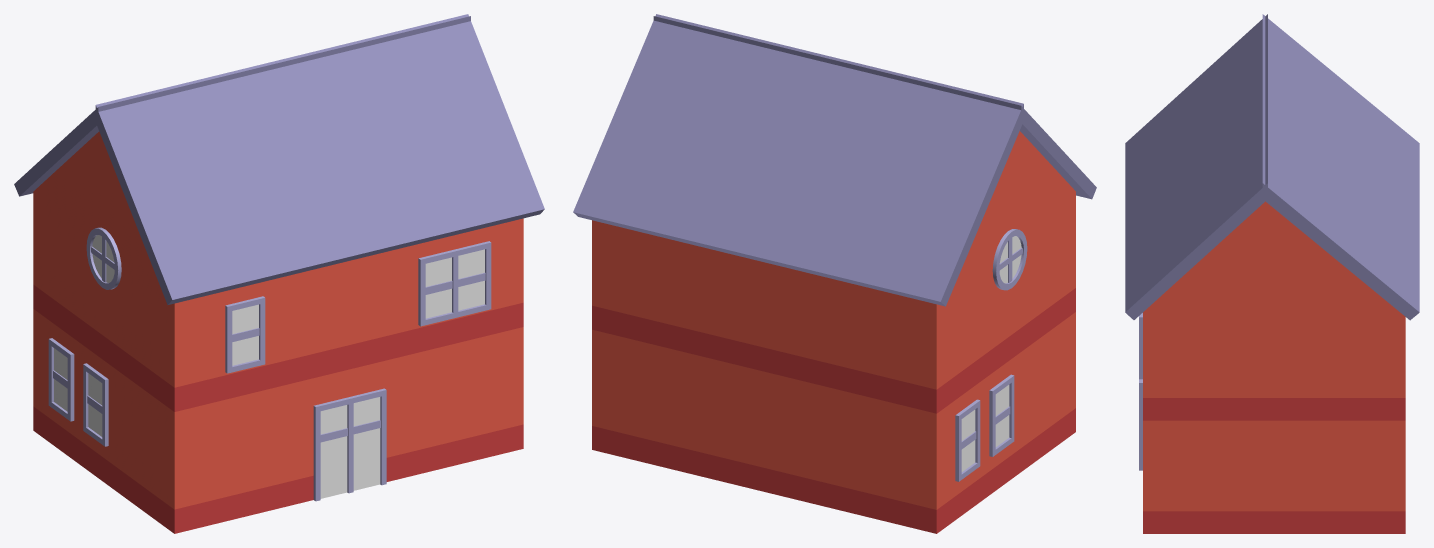
File: House_normal.fbx
3 views of the same model, side by side, from view 1: azimuth 30°, elevation 25°; view 2: azimuth 150°, elevation 25°; view 3: azimuth 270°, elevation 25° (orthographic). The views are drawn at different scales.
Parts seen in each view (by area): view 1: roof_halfLarge (×6), block (×6), door_wide, window_wide, window_double, window, window_round_detail; view 2: block (×6), roof_halfLarge (×6), window_double, window_round_detail; view 3: roof_halfLarge (×6), block (×2), door_wide.
Part boxes in pixels (x1=…): roof_halfLarge (×6): x1=14, y1=14, x2=544, y2=304; block (×6): x1=33, y1=189, x2=523, y2=533; door_wide: x1=313, y1=388, x2=386, y2=501; window_wide: x1=418, y1=241, x2=491, y2=326; window_double: x1=48, y1=338, x2=108, y2=446; window: x1=225, y1=296, x2=265, y2=373; window_round_detail: x1=86, y1=227, x2=121, y2=289; block (×6): x1=592, y1=192, x2=1075, y2=533; roof_halfLarge (×6): x1=573, y1=14, x2=1096, y2=306; window_double: x1=955, y1=374, x2=1014, y2=481; window_round_detail: x1=992, y1=229, x2=1027, y2=290; roof_halfLarge (×6): x1=1125, y1=14, x2=1419, y2=320; block (×2): x1=1143, y1=307, x2=1405, y2=533; door_wide: x1=1139, y1=379, x2=1142, y2=470.
Bounding box in the file's own units: 32 × 31.41 × 23.56.
